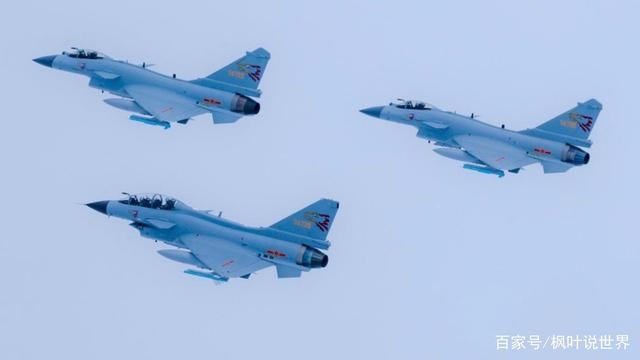airplane: (74, 185, 341, 284), (356, 87, 603, 187), (30, 43, 272, 135)
